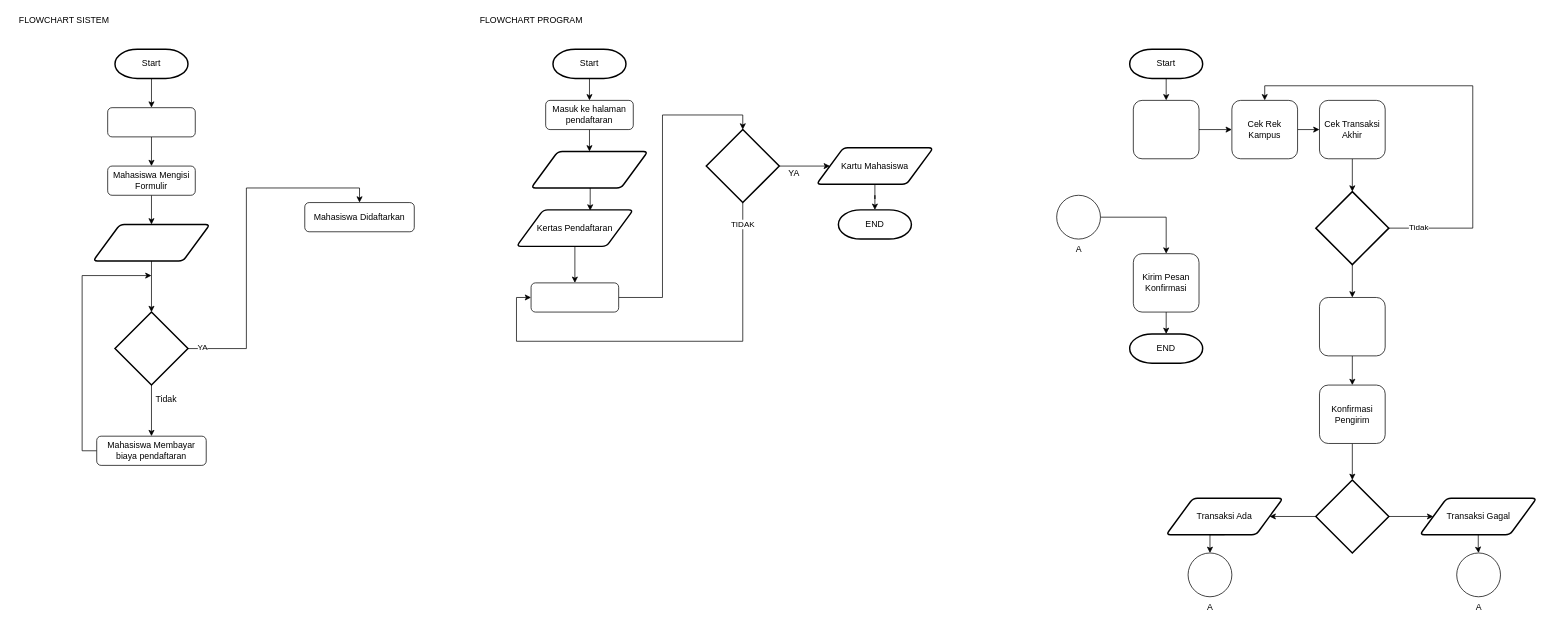
Some shapes in this 1550 by 624 pixel diagram are drawn without their labels. Each missing label, with the centre of its shape:
"Ada Transaksi" belongs at [1352,228].
"Apakah sudah bayar?" belongs at [151,348].
"Cek Nama Pengirim dari Transaksi" belongs at [1352,326].
"Formulir dimasukkan" belongs at [151,242].
"Input Biodata" belongs at [589,169].
"Konfirmasi Berhasil" belongs at [1352,516].
"Konfirmasi Pembayaran" belongs at [574,297].
"Mahasiswa Datang Mengambil Formulir" belongs at [151,122].
"Request Database bank BNI" belongs at [1166,129].
"Sudab Bayar?" belongs at [742,165].
